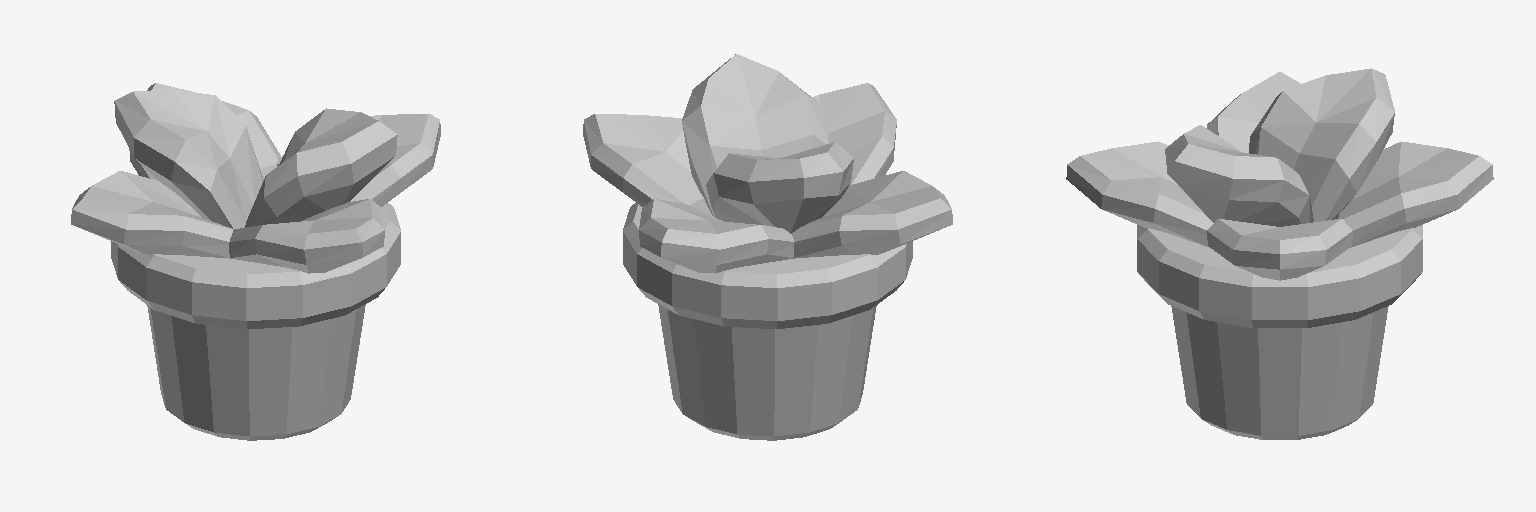
File: plant.obj
3 renders of one model, left to right at view 1: azimuth 30°, elevation 25°; view 2: azimuth 150°, elevation 25°; view 3: azimuth 270°, elevation 25°, orthographic.
Parts seen in each view (by area): view 1: plant; view 2: plant; view 3: plant.
Part boxes in pixels (left/top/right/bottom): plant: left=71, top=83, right=440, bottom=440; plant: left=583, top=54, right=952, bottom=440; plant: left=1066, top=68, right=1493, bottom=439.
Bounding box in the file's own units: 0.8225 × 0.6365 × 0.8225.